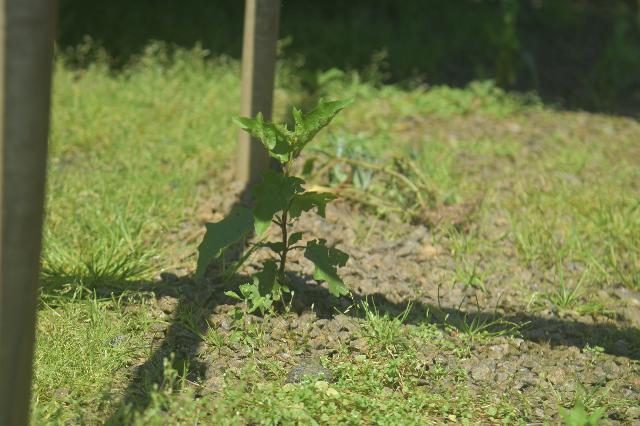MalezaMontesDelPlata: (191, 96, 354, 311), (28, 308, 166, 426), (356, 296, 448, 426), (168, 361, 351, 426), (43, 235, 166, 306)
